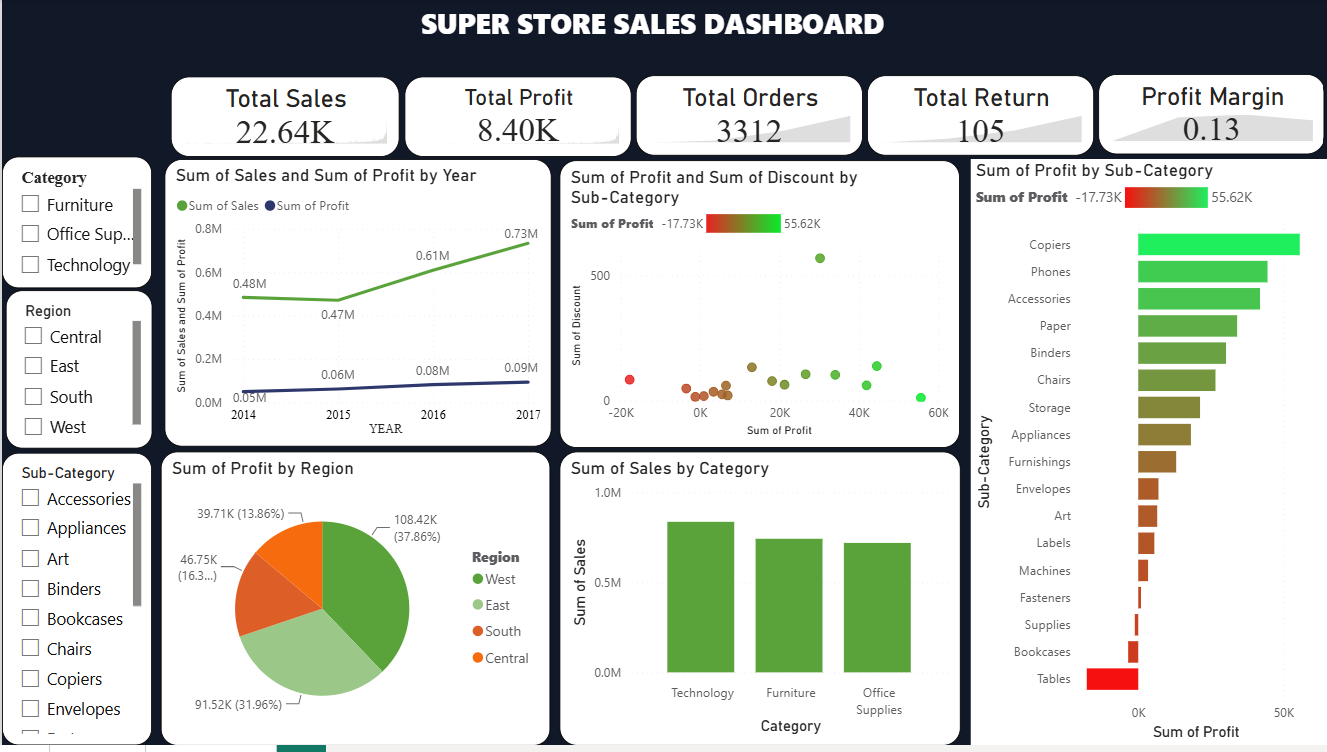

What the dashboard file says about the page in this screenshot:
{"tool":"powerbi","page":{"name":"Dashboard","canvas":[1280,720],"ordinal":2},"visuals":[{"type":"kpi","title":"Total Sales","fields":{"Indicator":["Sum(Orders.Sales)"],"TrendLine":["Orders.Sales"]},"box":[162.9,74.8,220.8,77.2],"z":0},{"type":"kpi","title":"Total Profit","fields":{"Indicator":["Sum(Orders.Profit)"],"TrendLine":["Orders.Profit"]},"box":[388.5,74.8,219.6,77.2],"z":1000},{"type":"lineChart","fields":{"Y":["Sum(Orders.Sales)","Sum(Orders.Profit)"],"Category":["Orders.Order Date.Variation.Date Hierarchy.Year"]},"box":[156.2,155,373.8,277.5],"z":2000},{"type":"clusteredColumnChart","fields":{"Y":["Sum(Orders.Sales)"],"Category":["Orders.Category"]},"box":[537.5,436.2,387.5,283.8],"z":3000},{"type":"slicer","fields":{"Values":["Orders.Category"]},"box":[0,152.5,145,127.5],"z":4000},{"type":"slicer","fields":{"Values":["Orders.Region"]},"box":[3.8,281.2,141.2,152.5],"z":5000},{"type":"slicer","fields":{"Values":["Orders.Sub-Category"]},"box":[0,437.5,145,282.5],"z":6000},{"type":"pieChart","fields":{"Category":["Orders.Region"],"Y":["Sum(Orders.Profit)"]},"box":[153.8,436.2,376.2,283.8],"z":7000},{"type":"textbox","box":[399.9,0,479.4,59.9],"z":8000},{"type":"kpi","title":"Profit Margin","fields":{"Indicator":["Orders.Profit Margin"],"TrendLine":["Orders.Order Date.Variation.Date Hierarchy.Year"]},"box":[1058,72.4,219.6,77.2],"z":9000},{"type":"kpi","title":"Total Orders","fields":{"TrendLine":["Orders.Order Date.Variation.Date Hierarchy.Year"],"Indicator":["CountNonNull(Orders.Order ID)"]},"box":[611.7,73.6,219.6,77.2],"z":10000},{"type":"kpi","title":"Total Return ","fields":{"TrendLine":["Orders.Order Date.Variation.Date Hierarchy.Year"],"Indicator":["CountNonNull(Returns.Returned)"]},"box":[834.9,73.6,219.6,77.2],"z":11000},{"type":"barChart","fields":{"Category":["Orders.Sub-Category"],"Y":["Sum(Orders.Profit)"]},"box":[935,154.4,345,565.8],"z":12000},{"type":"scatterChart","fields":{"X":["Sum(Orders.Profit)"],"Y":["Sum(Orders.Discount)"],"Category":["Orders.Sub-Category"]},"box":[538,155.3,386.4,277.6],"z":13000}]}

Visuals, with their boxes in screenshot pixels (x1, y1, x2, y2), scaled from the page's 1280x720 canvas onto the 1327x752 screenshot:
"Total Sales" kpi: <box>169,78,398,159</box>
"Total Profit" kpi: <box>403,78,630,159</box>
lineChart - Sum(Orders.Sales) x Sum(Orders.Profit): <box>162,162,549,452</box>
clusteredColumnChart - Sum(Orders.Sales) x Orders.Category: <box>557,456,959,751</box>
slicer - Orders.Category: <box>0,159,150,292</box>
slicer - Orders.Region: <box>4,294,150,453</box>
slicer - Orders.Sub-Category: <box>0,457,150,751</box>
pieChart - Orders.Region x Sum(Orders.Profit): <box>159,456,549,751</box>
textbox: <box>415,0,912,63</box>
"Profit Margin" kpi: <box>1097,76,1325,156</box>
"Total Orders" kpi: <box>634,77,862,158</box>
"Total Return " kpi: <box>866,77,1093,158</box>
barChart - Orders.Sub-Category x Sum(Orders.Profit): <box>969,161,1326,751</box>
scatterChart - Sum(Orders.Profit) x Sum(Orders.Discount): <box>558,162,958,452</box>
